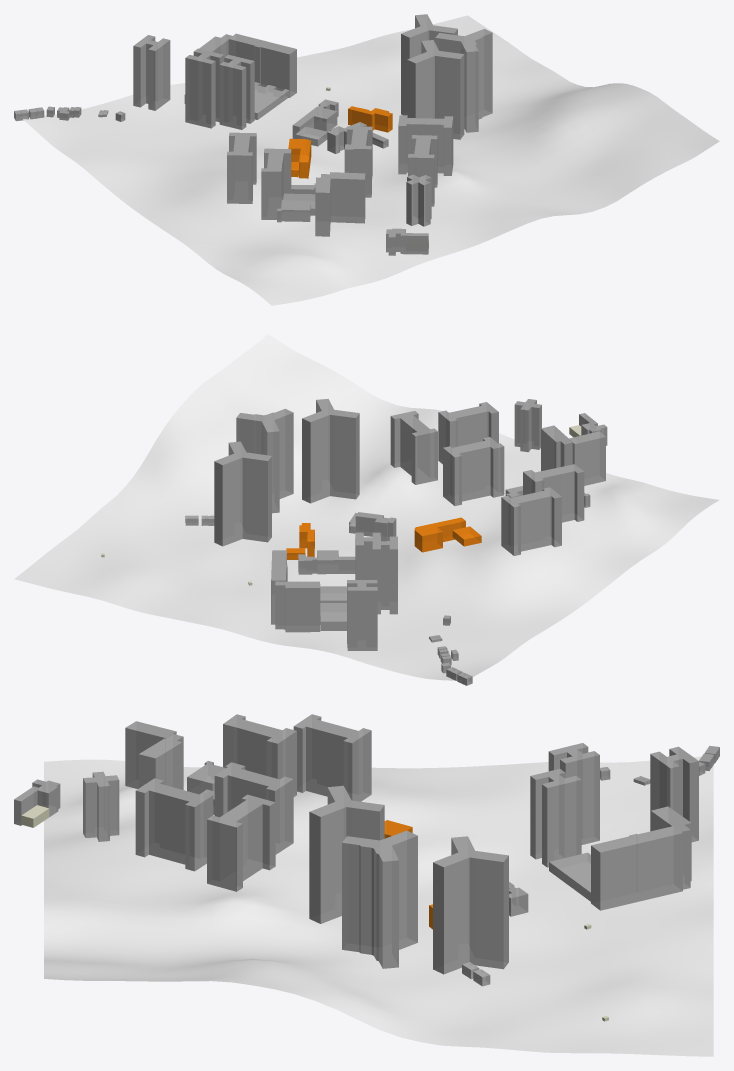
Rendered from cadmapper2.dae.
The picture shows the model from 3 angles, top to bottom: view 1: azimuth 30°, elevation 25°; view 2: azimuth 150°, elevation 25°; view 3: azimuth 270°, elevation 25°; orthographic projection. The views are drawn at different scales.
Visible parts, largest first — view 1: group_279, group_113, group_193, group_241, group_47, group_8, group_230, group_219, group_81, group_210, group_209, group_61 (+11 smaller); view 2: group_279, group_61, group_113, group_137, group_81, group_193, group_219, group_274, group_70, group_47, group_209, group_241 (+9 smaller); view 3: group_279, group_193, group_61, group_8, group_113, group_70, group_81, group_219, group_230, group_209, group_137, group_47 (+8 smaller).
Part boxes in pixels (left/top/right/bottom): group_279: left=23, top=15, right=719, bottom=305; group_113: left=407, top=40, right=464, bottom=139; group_193: left=435, top=29, right=492, bottom=132; group_241: left=185, top=48, right=223, bottom=128; group_47: left=133, top=35, right=170, bottom=110; group_8: left=228, top=33, right=296, bottom=97; group_230: left=219, top=54, right=254, bottom=129; group_219: left=398, top=115, right=453, bottom=175; group_81: left=227, top=132, right=256, bottom=203; group_210: left=320, top=172, right=365, bottom=223; group_209: left=261, top=148, right=291, bottom=219; group_61: left=401, top=14, right=457, bottom=115; group_279: left=14, top=334, right=719, bottom=680; group_61: left=214, top=441, right=271, bottom=546; group_113: left=302, top=398, right=359, bottom=503; group_137: left=443, top=437, right=504, bottom=505; group_81: left=501, top=487, right=561, bottom=555; group_193: left=236, top=408, right=293, bottom=513; group_219: left=390, top=411, right=437, bottom=484; group_274: left=275, top=581, right=320, bottom=632; group_70: left=438, top=402, right=498, bottom=464; group_47: left=347, top=580, right=377, bottom=650; group_209: left=523, top=464, right=584, bottom=522; group_241: left=372, top=536, right=397, bottom=614; group_279: left=44, top=756, right=713, bottom=1056; group_193: left=342, top=830, right=417, bottom=968; group_61: left=433, top=836, right=508, bottom=974; group_8: left=591, top=826, right=682, bottom=910; group_113: left=309, top=785, right=384, bottom=923; group_70: left=135, top=778, right=213, bottom=871; group_81: left=293, top=714, right=371, bottom=801; group_219: left=207, top=794, right=275, bottom=891; group_230: left=530, top=769, right=581, bottom=867; group_209: left=223, top=714, right=296, bottom=796; group_137: left=214, top=762, right=293, bottom=854; group_47: left=650, top=746, right=698, bottom=842.
Size of the model in its own units: 24325 by 24692 by 5571.
